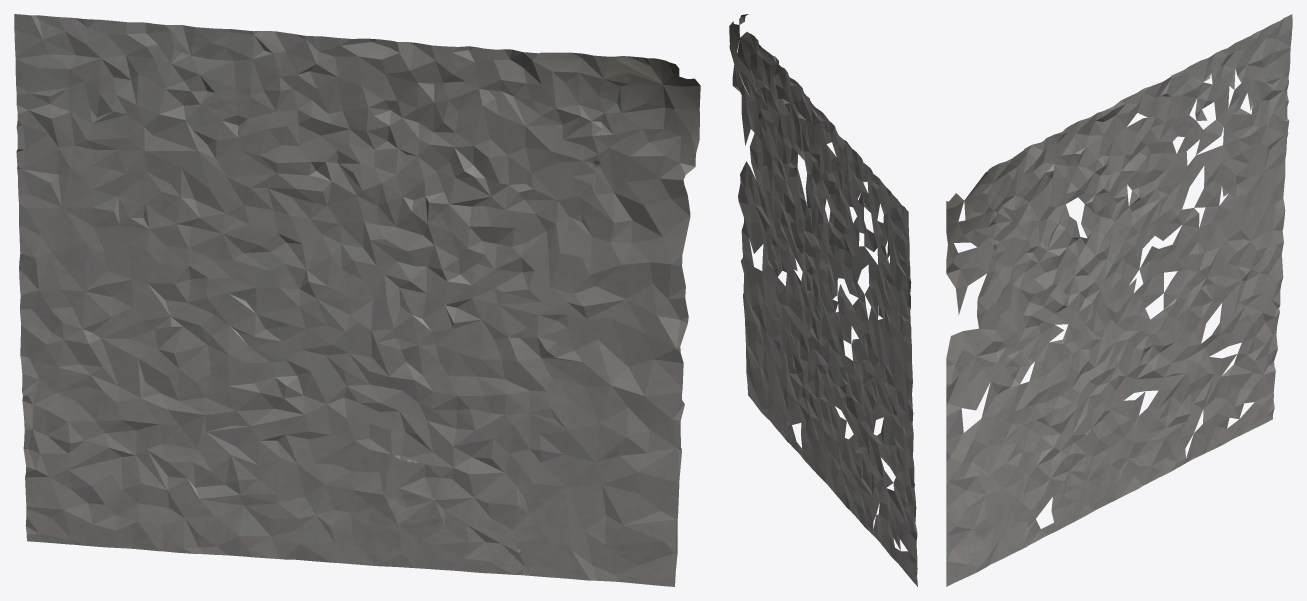
3 renders of one model, left to right at view 1: azimuth 30°, elevation 25°; view 2: azimuth 150°, elevation 25°; view 3: azimuth 270°, elevation 25°, orthographic. The views are drawn at different scales.
Size of the model in its own units: 0.7864 by 0.8373 by 0.6486.
Materials: 3 (3 with a texture image).
